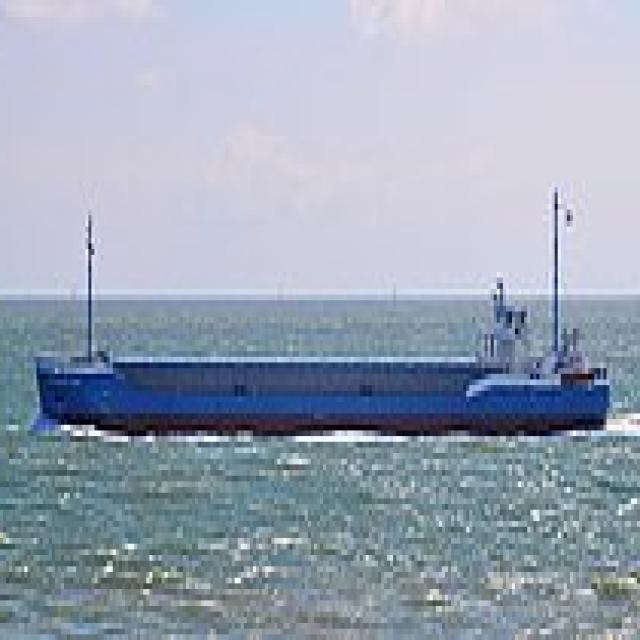Cargo: (24, 170, 616, 436)
